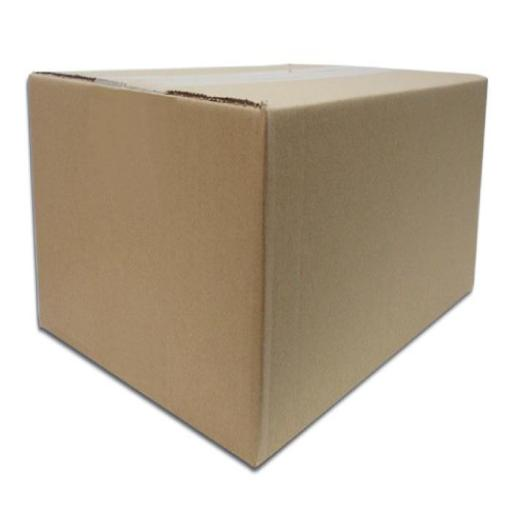plastic bottle: (26, 65, 488, 473)
